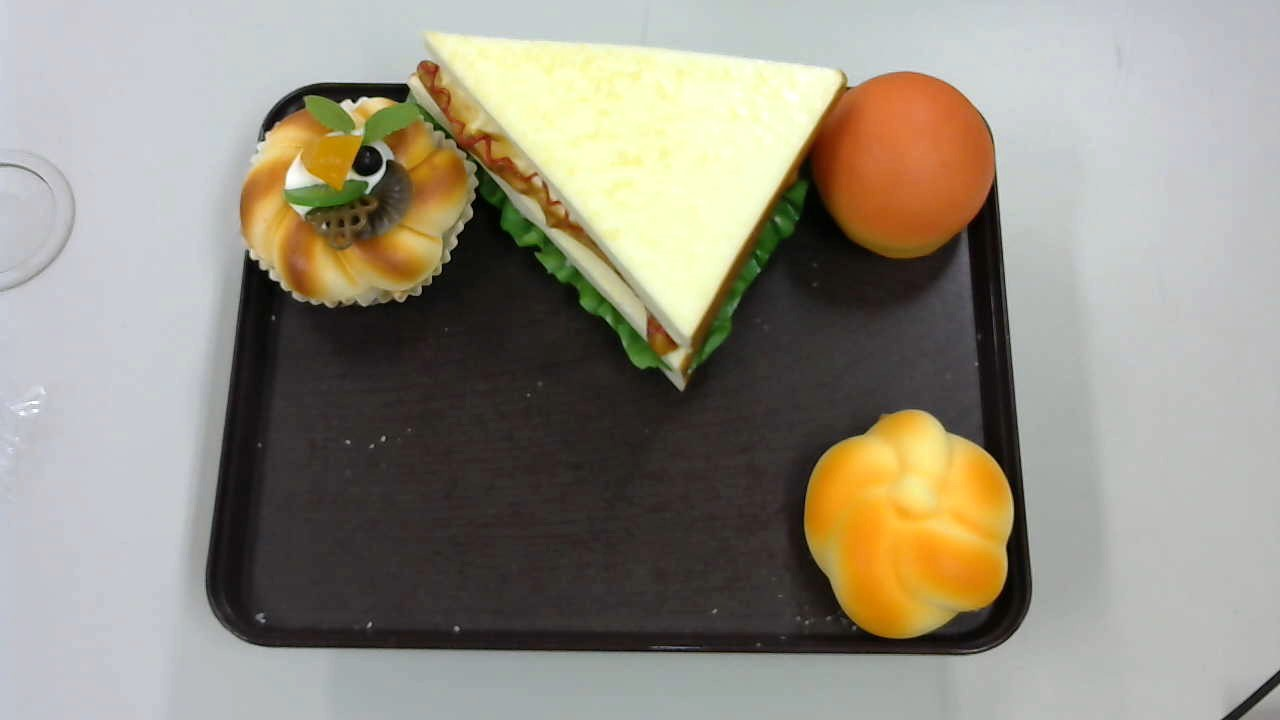bun: (808, 69, 996, 262)
fruit tart: (237, 95, 480, 307)
sandwich: (405, 30, 848, 397)
twist bread: (800, 410, 1019, 641)
